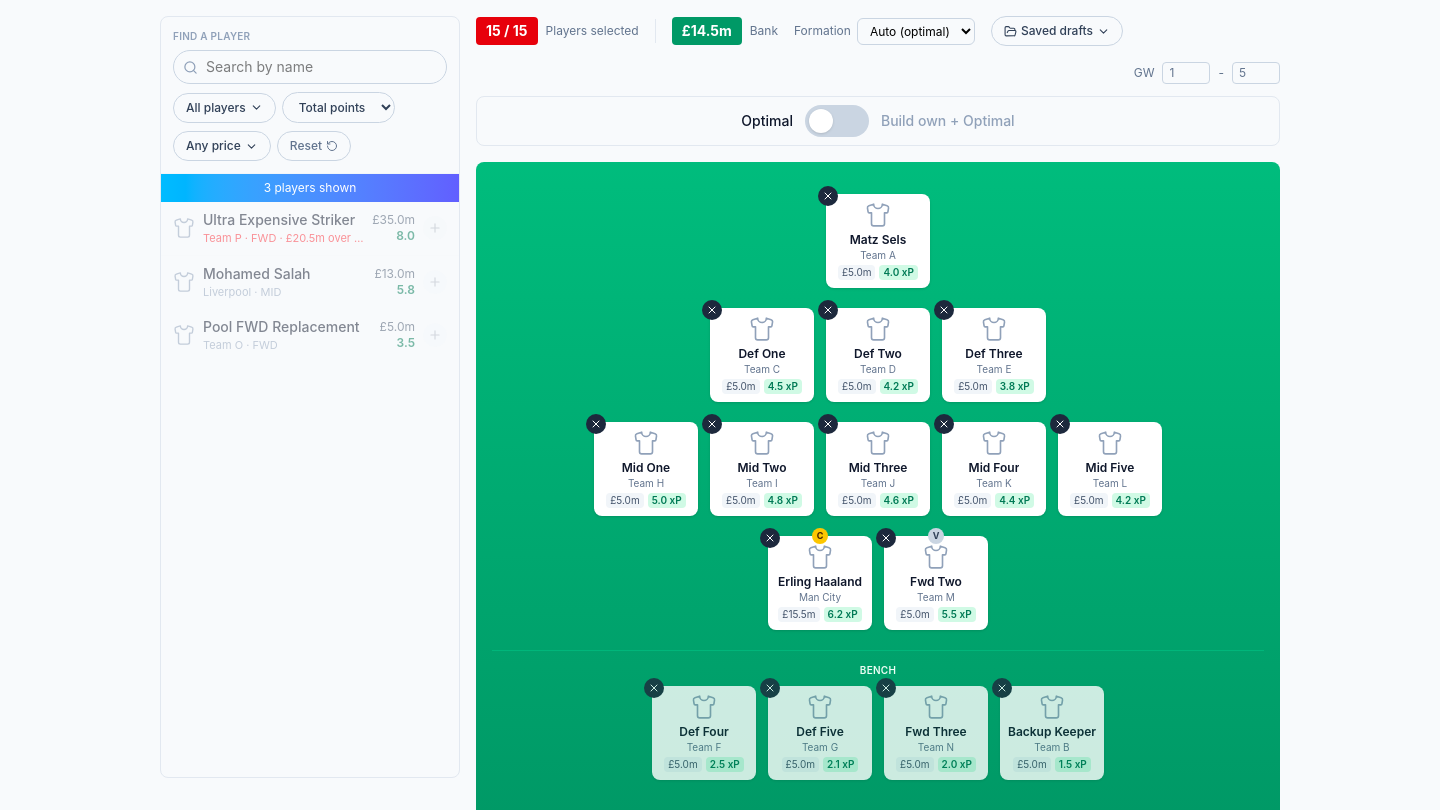
Test: SquadBuilder › lock mode shows a padlock on each card, and toggling it updates the locked count
Click the switch named "toggle lock mode" at (837, 121), box [805, 105, 869, 137]
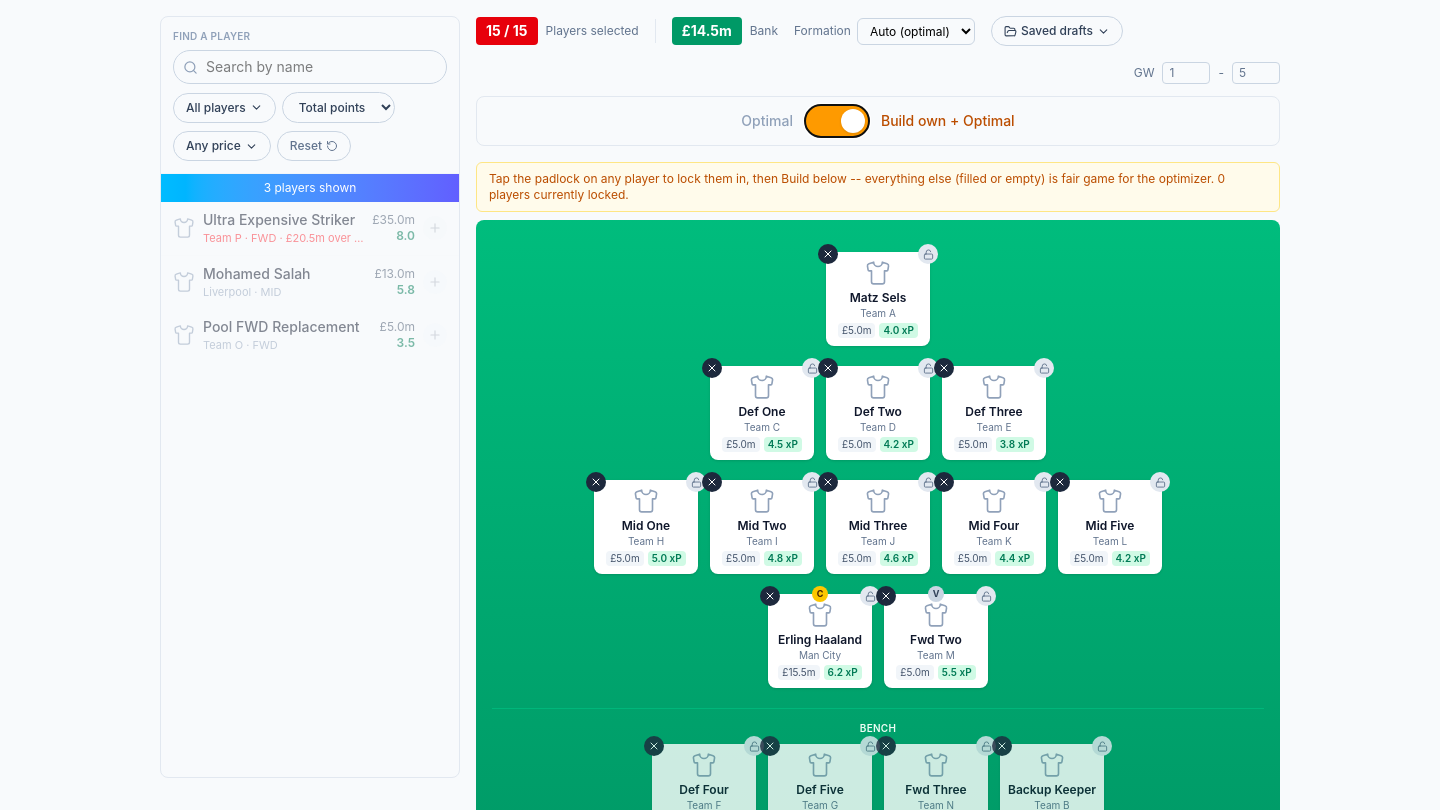
Check: the text "0 players currently locked" is shown, box [476, 162, 1280, 212]
Click the button named "Lock Erling Haaland" at (870, 596), box [860, 586, 880, 606]
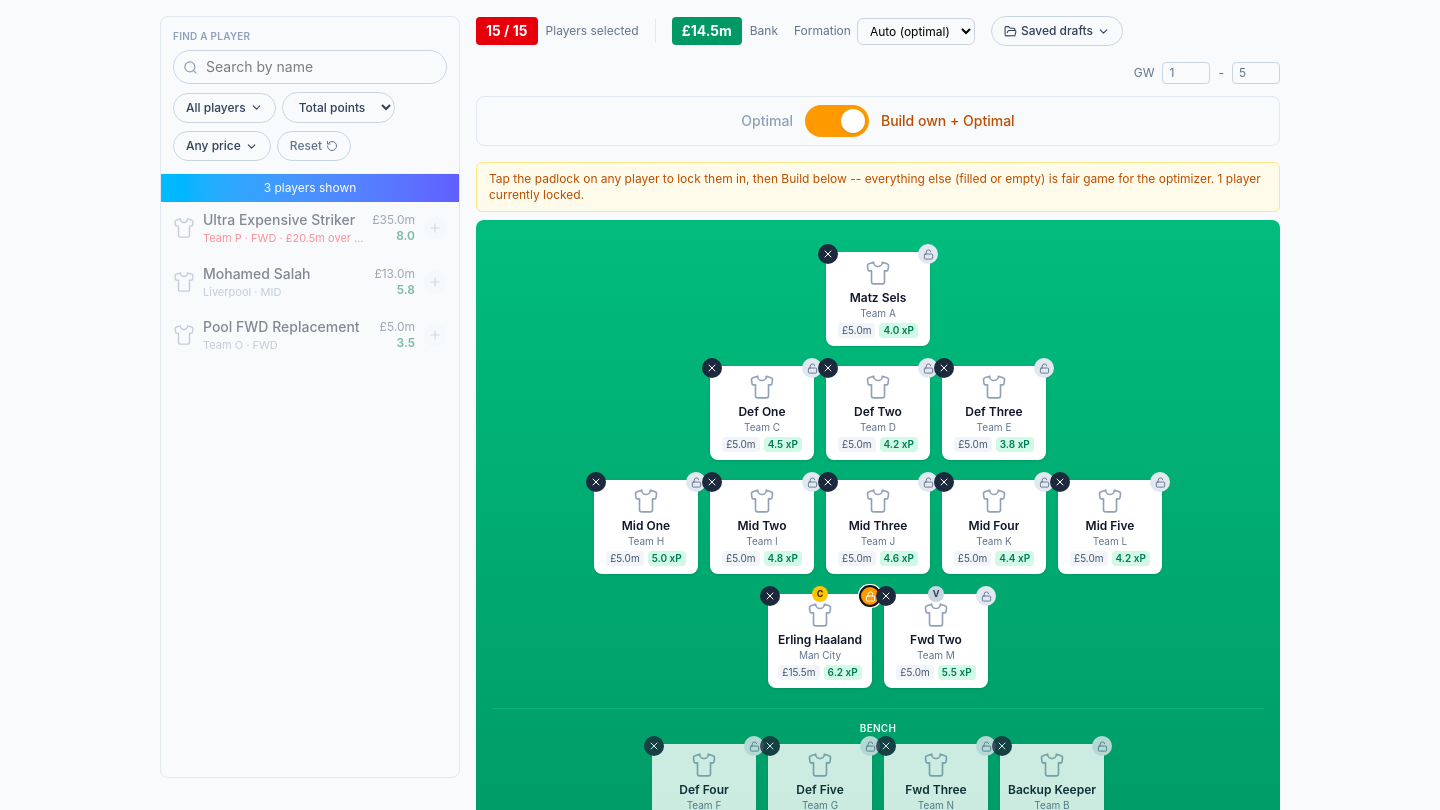
Check: the text "1 player currently locked" is shown, box [476, 162, 1280, 212]
Check: the button named "Unlock Erling Haaland" is shown, box [860, 586, 880, 606]
